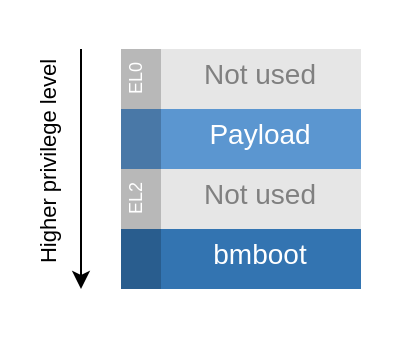
This 394x340 diagram has some shape labels left out. The centre of each missing label's shape, as x and y in pixels:
EL1: point (140, 138)
EL3: point (140, 258)
